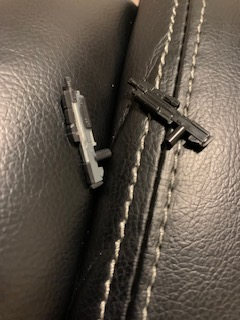rifle: (125, 74, 212, 154), (58, 73, 115, 195)
